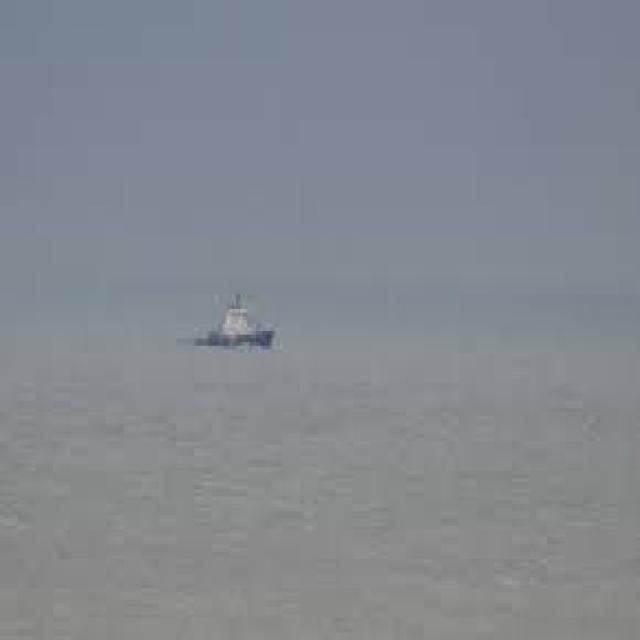houseboat: (182, 286, 273, 354)
